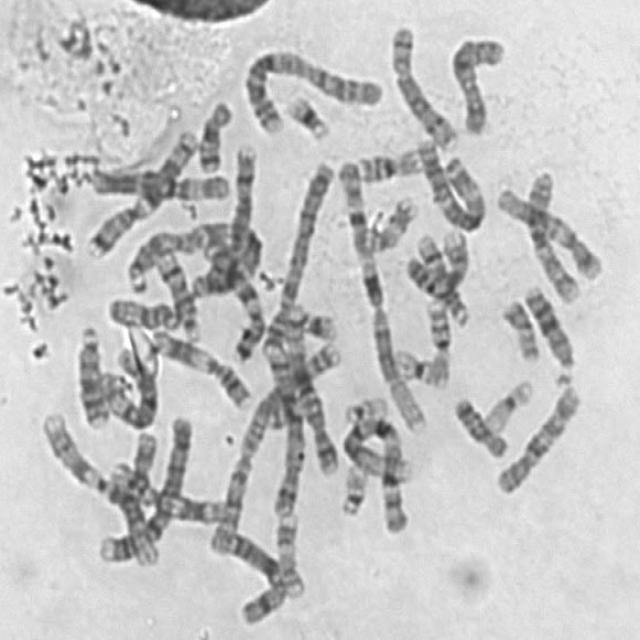A1: (332, 150, 428, 438), (335, 407, 414, 536)
A2: (199, 330, 345, 552), (236, 40, 386, 137)
A3: (168, 211, 276, 306), (410, 128, 489, 233)
B4: (93, 407, 197, 566), (257, 153, 338, 354)
B5: (187, 136, 261, 300), (253, 338, 304, 518)
C10: (489, 376, 585, 498), (520, 162, 584, 306)
C11: (143, 319, 257, 413), (103, 453, 229, 526)
C12: (490, 177, 606, 283), (276, 325, 352, 480)
C6: (85, 160, 233, 204), (92, 338, 162, 430)
C7: (80, 120, 202, 260), (200, 240, 269, 364)
C8: (384, 17, 462, 151), (120, 421, 169, 570)
C9: (36, 403, 144, 511), (400, 220, 479, 302)
D13: (518, 275, 579, 384), (70, 318, 112, 430)
D14: (408, 227, 472, 329), (150, 243, 204, 342)
D15: (123, 222, 194, 300), (104, 290, 184, 332)
E16: (421, 292, 455, 388), (351, 141, 424, 184)
E17: (359, 187, 421, 256), (270, 506, 307, 600)
E18: (448, 389, 511, 460), (192, 92, 236, 174)
F19: (478, 371, 538, 433), (388, 339, 440, 387)
F20: (496, 291, 543, 364), (249, 389, 325, 434)
G21: (280, 84, 334, 144), (293, 298, 340, 343)
G22: (335, 457, 370, 518), (338, 386, 391, 424)
X: (203, 522, 293, 630), (443, 28, 509, 137)
